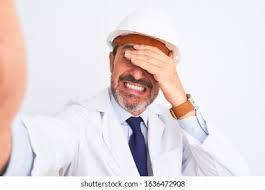helmet: (105, 8, 181, 62)
